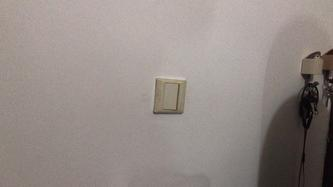switch: (162, 80, 181, 111)
